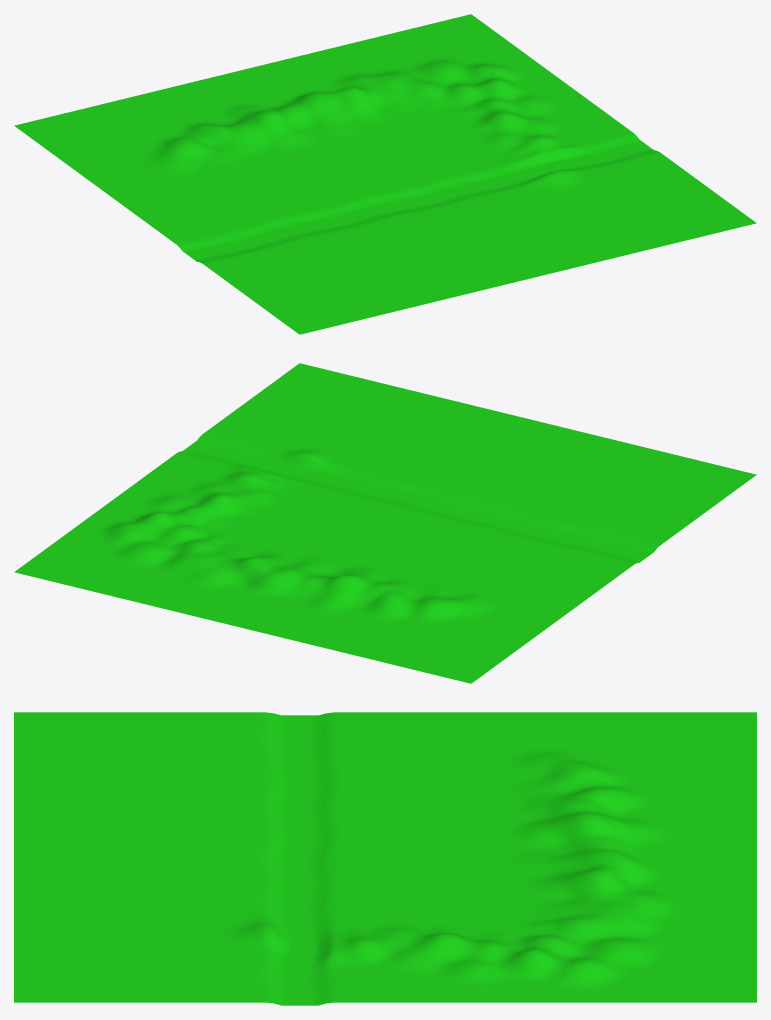
Rendered from terrain.obj.
3 renders of one model, top to bottom at view 1: azimuth 30°, elevation 25°; view 2: azimuth 150°, elevation 25°; view 3: azimuth 270°, elevation 25°, orthographic. The views are drawn at different scales.
Visible parts, largest first — view 1: polySurface23 polySurface22 Always_check_before_a_meeting__1__po; view 2: polySurface23 polySurface22 Always_check_before_a_meeting__1__po; view 3: polySurface23 polySurface22 Always_check_before_a_meeting__1__po.
Part boxes in pixels (bbox=[...]): polySurface23 polySurface22 Always_check_before_a_meeting__1__po: bbox=[14, 14, 756, 334]; polySurface23 polySurface22 Always_check_before_a_meeting__1__po: bbox=[14, 363, 756, 683]; polySurface23 polySurface22 Always_check_before_a_meeting__1__po: bbox=[14, 712, 756, 1005].
Bounding box in the file's own units: 1058 × 33.45 × 1145.
